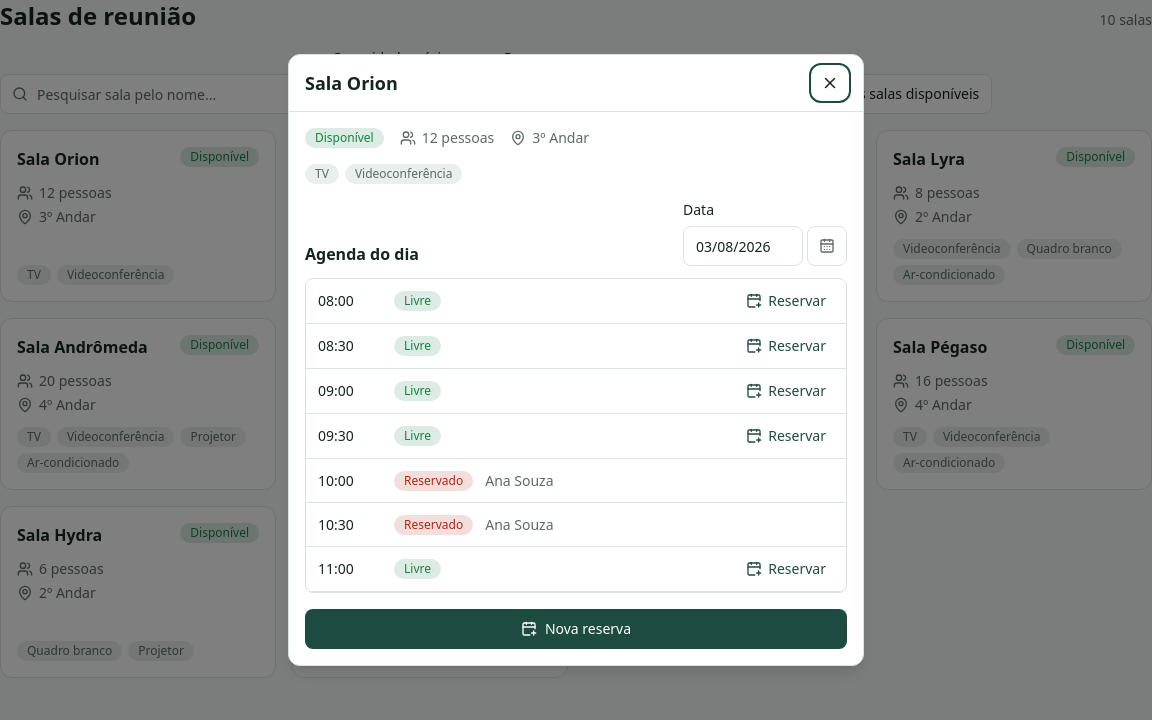
RoomDetails › creates a reservation from a free slot with prefilled values
Expected: the text "09:00" is shown, x1=318 y1=381 x2=354 y2=400
Click the button "Reservar" in the row of "09:00". click: (786, 391)
box: x1=738 y1=375 x2=834 y2=407
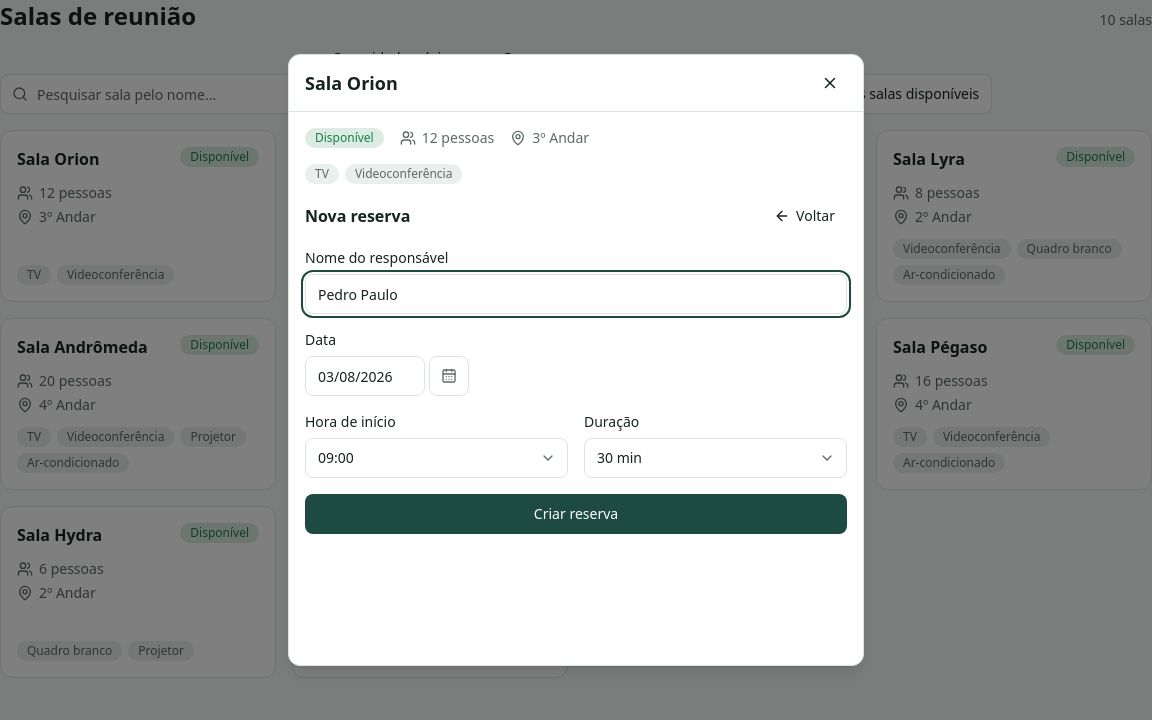
Expected: the heading "Nova reserva" is shown, x1=305 y1=204 x2=410 y2=228
Expected: the field labelled "Nome do responsável" holds "Pedro Paulo", x1=305 y1=274 x2=847 y2=314
Click the button "Criar reserva". click: (576, 514)
box: x1=305 y1=494 x2=847 y2=534
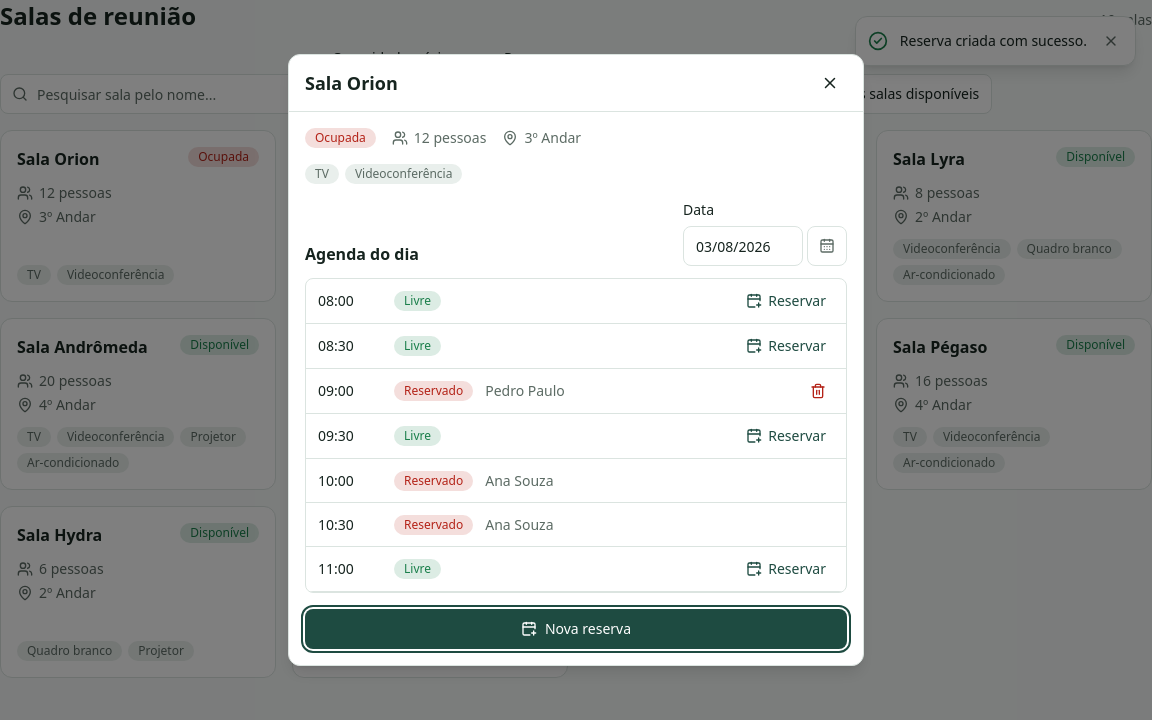
Expected: the text "Reserva criada com sucesso." is shown, x1=900 y1=31 x2=1087 y2=51
Expected: the text "Reservado" next to "09:00" is shown, x1=404 y1=382 x2=463 y2=399
Expected: the text "Pedro Paulo" is shown, x1=485 y1=381 x2=565 y2=400
